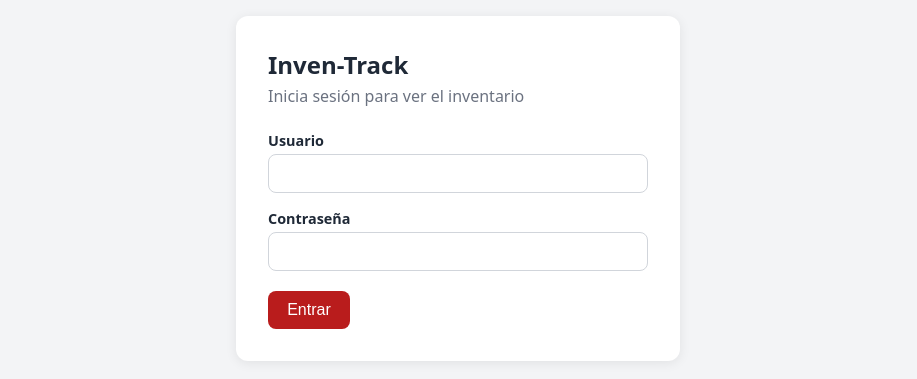
App › cerrar sesión regresa al login
Type "admin" into the field labelled "Usuario". click: [458, 174]
box: left=268, top=154, right=648, bottom=193
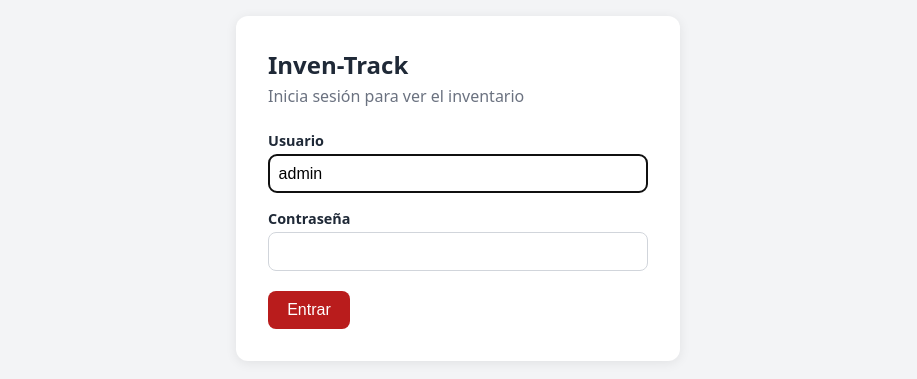
Type "admin123" into the password field labelled "Contraseña". click: [458, 252]
box: left=268, top=232, right=648, bottom=271
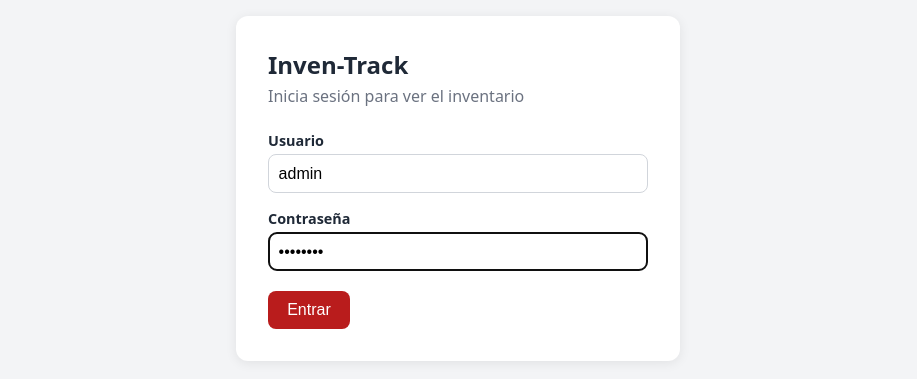
Click the button "Entrar". click: [309, 310]
box: left=268, top=291, right=350, bottom=329
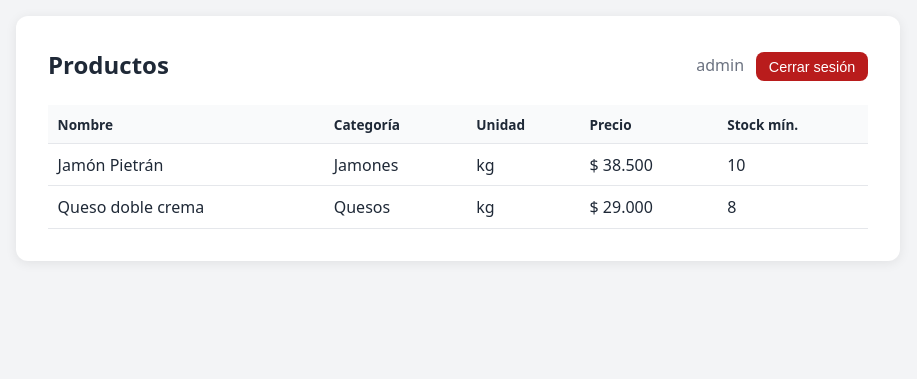
Click the button "Cerrar sesión". click: [812, 66]
box: left=756, top=52, right=868, bottom=81
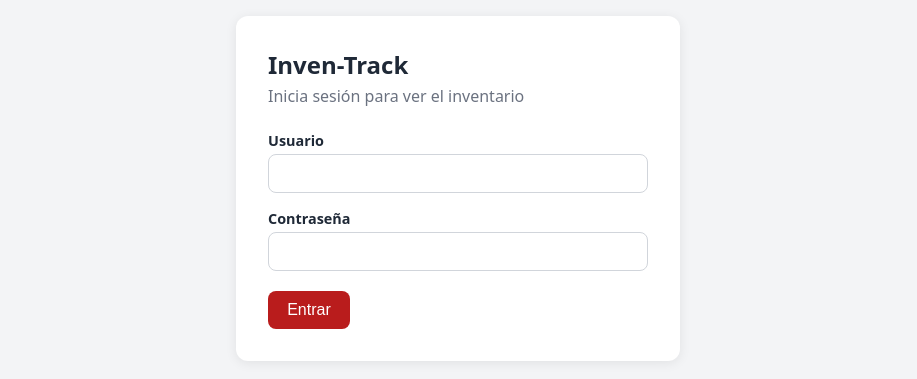
Expected: the button "Entrar" is shown, left=268, top=291, right=350, bottom=329
